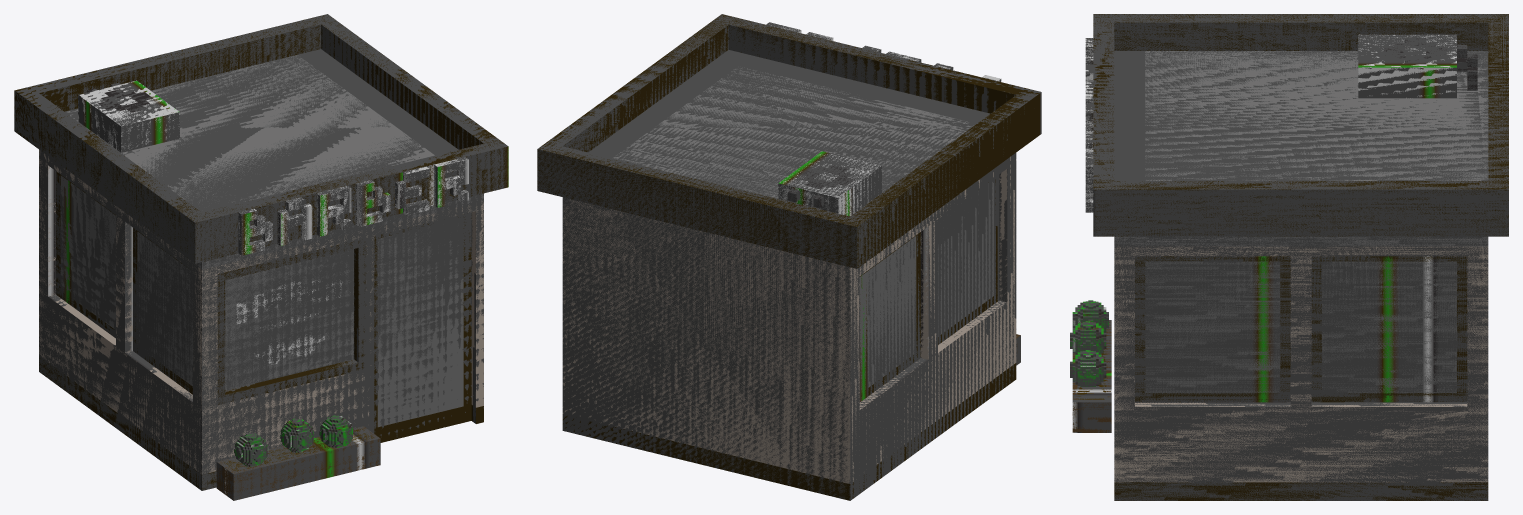
File: barber.fbx
The picture shows the model from 3 angles, left to right: view 1: azimuth 30°, elevation 25°; view 2: azimuth 150°, elevation 25°; view 3: azimuth 270°, elevation 25°; orthographic projection. The views are drawn at different scales.
Parts seen in each view (by area): view 1: barber_1, barber_1_Backup; view 2: barber_1, barber_1_Backup; view 3: barber_1, barber_1_Backup.
Boxes of the visible parts, box(x1,y1,x2,y2) form: barber_1: box(14, 14, 508, 500); barber_1_Backup: box(14, 15, 508, 500); barber_1: box(537, 14, 1041, 500); barber_1_Backup: box(537, 14, 1040, 500); barber_1: box(1070, 14, 1508, 500); barber_1_Backup: box(1070, 14, 1508, 500).
Size of the model in its own units: 1600 by 1370 by 1690.
